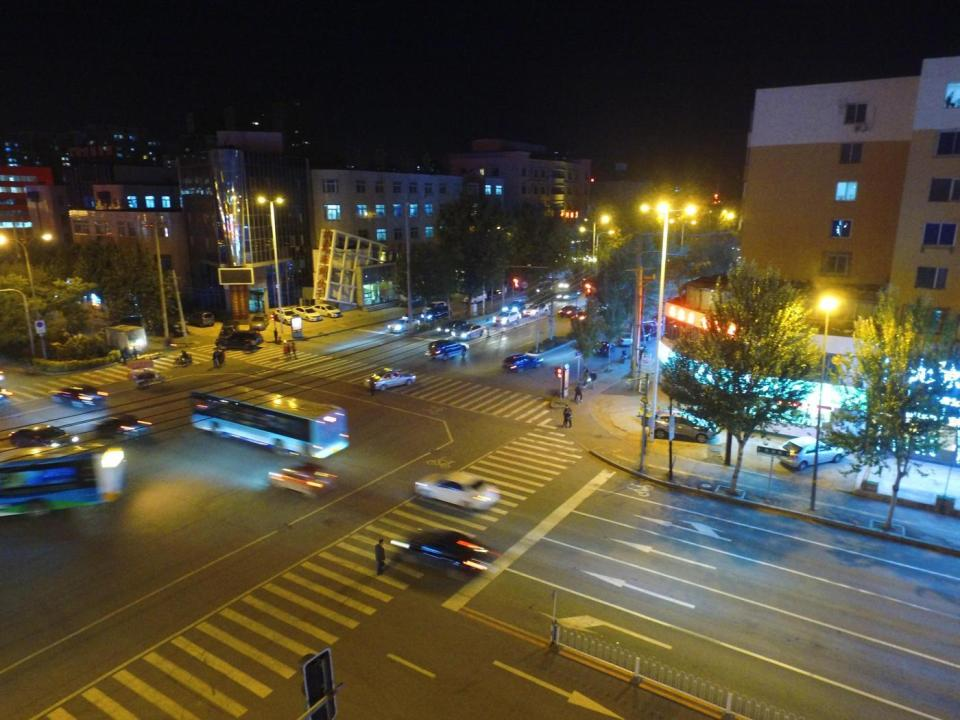bus: (191, 382, 348, 459), (0, 446, 125, 519)
car: (387, 528, 494, 584), (416, 470, 499, 510), (266, 461, 335, 495), (778, 436, 847, 470), (654, 410, 716, 443), (7, 427, 75, 449), (97, 415, 153, 441), (48, 386, 108, 407), (364, 368, 417, 390), (502, 352, 544, 372), (425, 340, 463, 357), (110, 315, 147, 332), (294, 304, 323, 323), (387, 316, 419, 333), (152, 321, 187, 336), (462, 286, 488, 306), (451, 324, 482, 340), (314, 302, 340, 319), (274, 307, 297, 326), (592, 340, 615, 359), (504, 298, 528, 314), (424, 306, 453, 319), (524, 302, 546, 318), (494, 310, 518, 324), (440, 321, 467, 333), (250, 313, 268, 330), (558, 306, 584, 316), (618, 330, 633, 346), (222, 321, 237, 335), (557, 291, 578, 301), (424, 301, 445, 310), (488, 289, 503, 300)
truck: (98, 325, 146, 355)
van: (215, 330, 263, 350), (189, 310, 215, 326)
